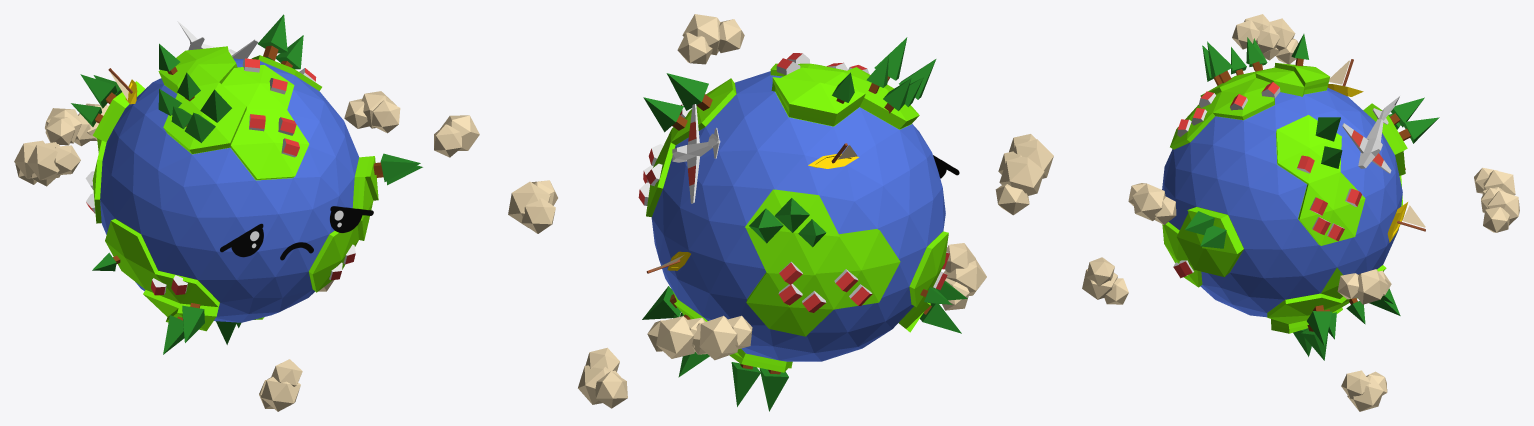
The model's file is sad2.glb.
3 views of the same model, side by side, from view 1: azimuth 30°, elevation 25°; view 2: azimuth 150°, elevation 25°; view 3: azimuth 270°, elevation 25° (orthographic). The views are drawn at different scales.
Visible parts, largest first — view 1: Icosphere, 003, Icosphere.001, Icosphere.008, Icosphere.006, Icosphere.003, Icosphere.004, Plane.013, Plane.016, Plane.027, Icosphere.007, Plane.005 (+5 smaller); view 2: Icosphere, Icosphere.004, Icosphere.005, Icosphere.007, Icosphere.003, Icosphere.001, Icosphere.006, Icosphere.002, Plane.003, Plane.013, Icosphere.008, Plane.014 (+9 smaller); view 3: Icosphere, Icosphere.006, Icosphere.004, Plane.003, Icosphere.005, Icosphere.001, Icosphere.002, Icosphere.007, Icosphere.008, Icosphere.003, Plane.002, Plane.020 (+7 smaller).
Boxes of the visible parts, x1,y1,x2,y2 form: Icosphere: (92,46,378,331); 003: (220,206,373,260); Icosphere.001: (344,91,400,133); Icosphere.008: (27,142,80,186); Icosphere.006: (259,359,302,411); Icosphere.003: (45,108,94,146); Icosphere.004: (434,115,479,157); Plane.013: (257,14,287,60); Plane.016: (373,153,420,181); Plane.027: (182,303,204,342); Icosphere.007: (14,140,59,184); Plane.005: (80,74,117,108); Icosphere: (646,63,948,372); Icosphere.004: (677,14,744,64); Icosphere.005: (578,347,627,408); Icosphere.007: (995,151,1044,215); Icosphere.003: (692,315,752,360); Icosphere.001: (508,180,557,233); Icosphere.006: (942,243,986,310); Icosphere.002: (647,316,705,358); Plane.003: (672,104,720,203); Plane.013: (666,73,712,110); Icosphere.008: (1009,134,1053,178); Plane.014: (643,97,687,132); Icosphere: (1162,63,1407,333); Icosphere.006: (1082,257,1128,304); Icosphere.004: (1128,183,1176,224); Plane.003: (1342,96,1399,173); Icosphere.005: (1341,370,1387,411); Icosphere.001: (1337,269,1391,304); Icosphere.002: (1481,188,1519,232); Icosphere.007: (1256,18,1298,64); Icosphere.008: (1232,14,1279,60); Icosphere.003: (1474,167,1515,195); Plane.002: (1387,202,1425,242); Plane.020: (1307,305,1332,345).
Bounding box in the file's own units: 3.83 × 2.76 × 3.75.
Materials: 12 (1 with a texture image).
